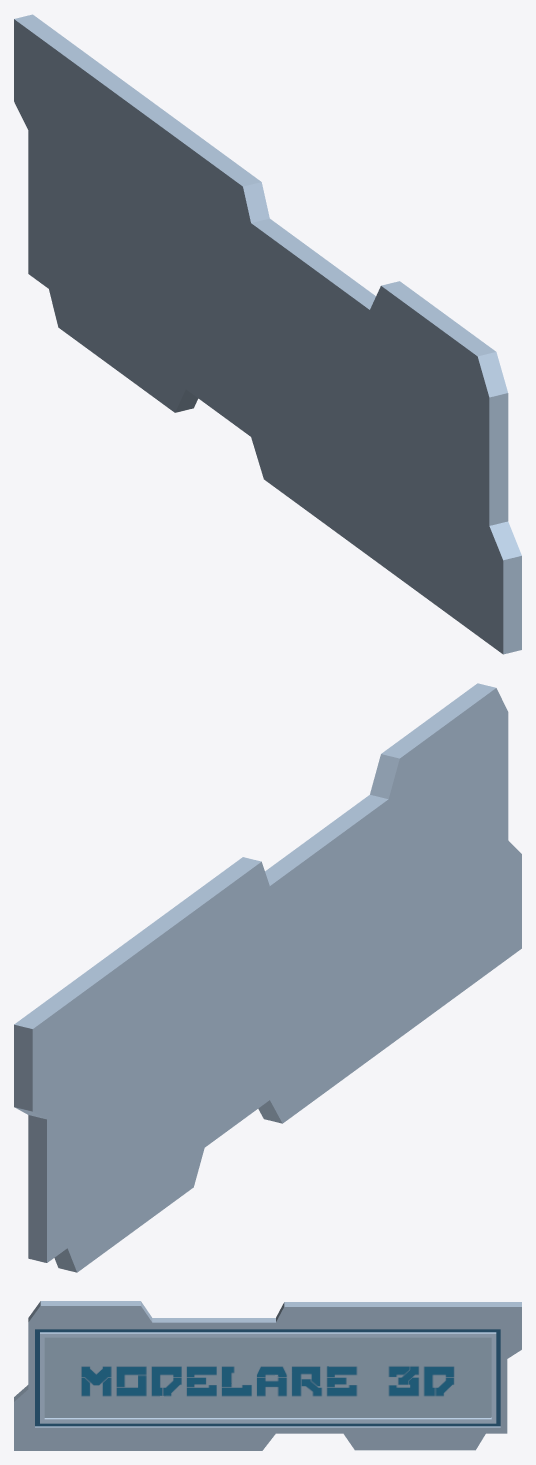
Rendered from titlu-m3d.glb.
The picture shows the model from 3 angles, top to bottom: view 1: azimuth 30°, elevation 25°; view 2: azimuth 150°, elevation 25°; view 3: azimuth 270°, elevation 25°; orthographic projection. The views are drawn at different scales.
Visible parts, largest first — view 1: holograma; view 2: holograma; view 3: textbox, holograma, rama_interioara, rama_interioara.001.
Boxes of the visible parts, x1,y1,x2,y2 form: holograma: (14, 14, 521, 654); holograma: (14, 683, 521, 1272); textbox: (44, 1337, 491, 1417); holograma: (14, 1301, 521, 1450); rama_interioara: (40, 1332, 496, 1423); rama_interioara.001: (35, 1329, 500, 1426).
Bounding box in the file's own units: 0.1215 × 1.73 × 5.48.
4 materials, 1 textured.
